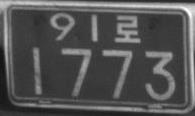1: (24, 47, 52, 94), (83, 14, 106, 41)
3: (144, 50, 175, 101)
7: (61, 47, 93, 97), (102, 49, 133, 99)
9: (49, 12, 75, 40)
로: (114, 13, 140, 43)
